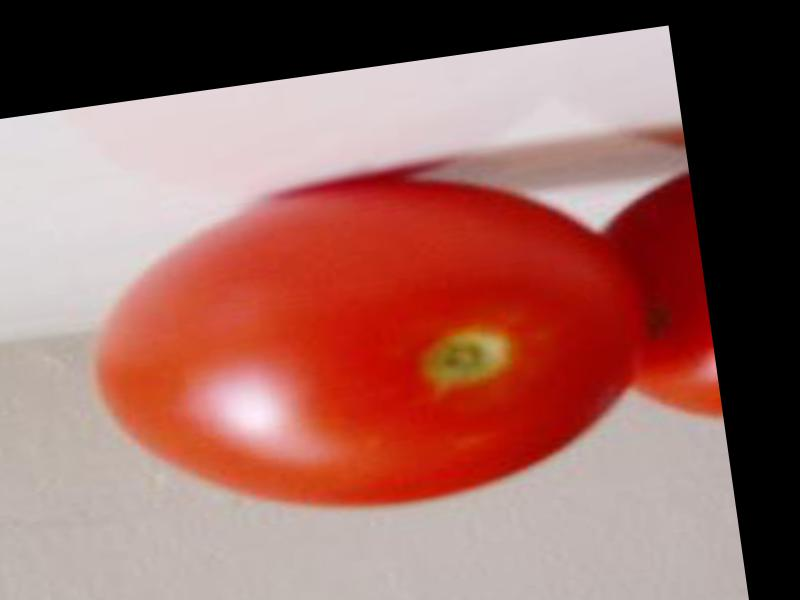Tomato: (74, 148, 658, 542)
